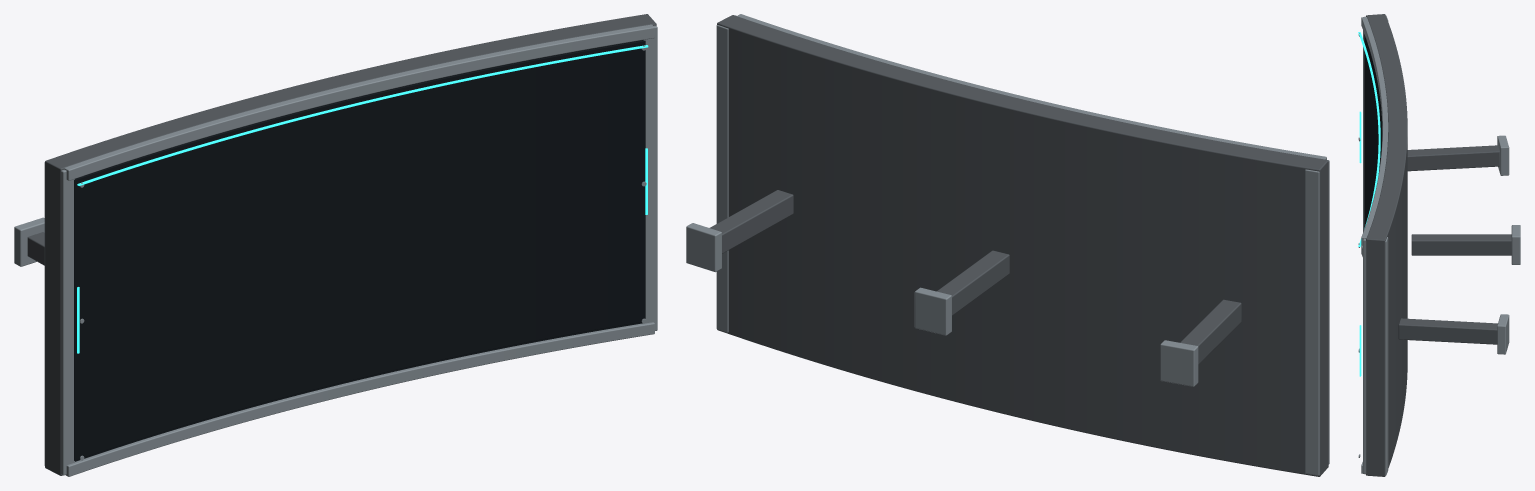
3 views of the same model, side by side, from view 1: azimuth 30°, elevation 25°; view 2: azimuth 150°, elevation 25°; view 3: azimuth 270°, elevation 25° (orthographic). The views are drawn at different scales.
Visible parts, largest first — view 1: E1_20_DELIVERED_MODULE; view 2: E1_20_DELIVERED_MODULE; view 3: E1_20_DELIVERED_MODULE.
Part boxes in pixels (bbox=[...]): E1_20_DELIVERED_MODULE: bbox=[14, 14, 657, 476]; E1_20_DELIVERED_MODULE: bbox=[686, 14, 1329, 476]; E1_20_DELIVERED_MODULE: bbox=[1358, 14, 1520, 476].
Bounding box in the file's own units: 5.44 × 2.65 × 1.64.
